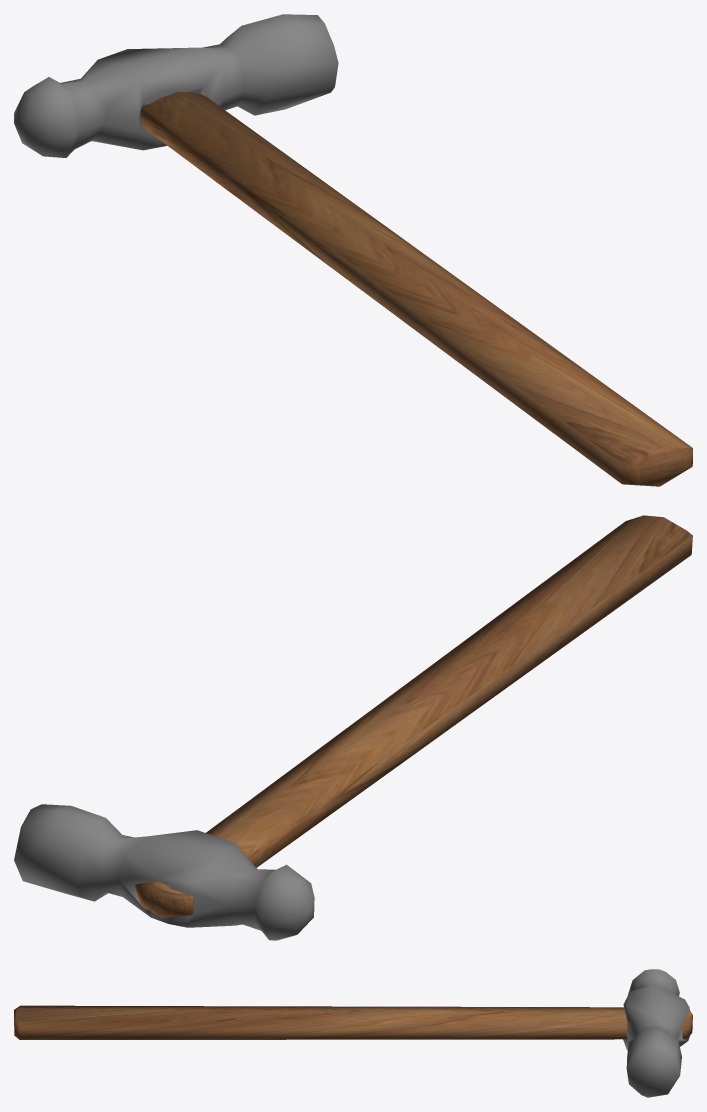
File: hammer.fbx
3 views of the same model, one above another, from view 1: azimuth 30°, elevation 25°; view 2: azimuth 150°, elevation 25°; view 3: azimuth 270°, elevation 25° (orthographic). The views are drawn at different scales.
Parts seen in each view (by area): view 1: ball_peen_hammer_hp; view 2: ball_peen_hammer_hp; view 3: ball_peen_hammer_hp.
Part boxes in pixels (<box>): ball_peen_hammer_hp: <box>14,14,692,486</box>; ball_peen_hammer_hp: <box>14,515,692,940</box>; ball_peen_hammer_hp: <box>14,969,692,1097</box>.
Size of the model in its own units: 198 by 56.85 by 612.
